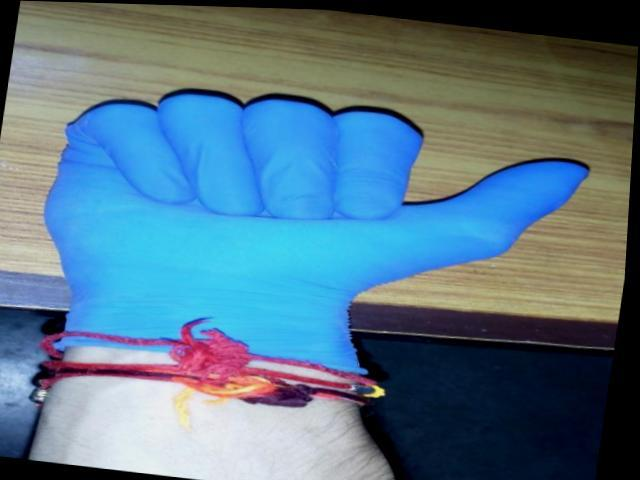Hand-in-Glove: (33, 52, 616, 406)
